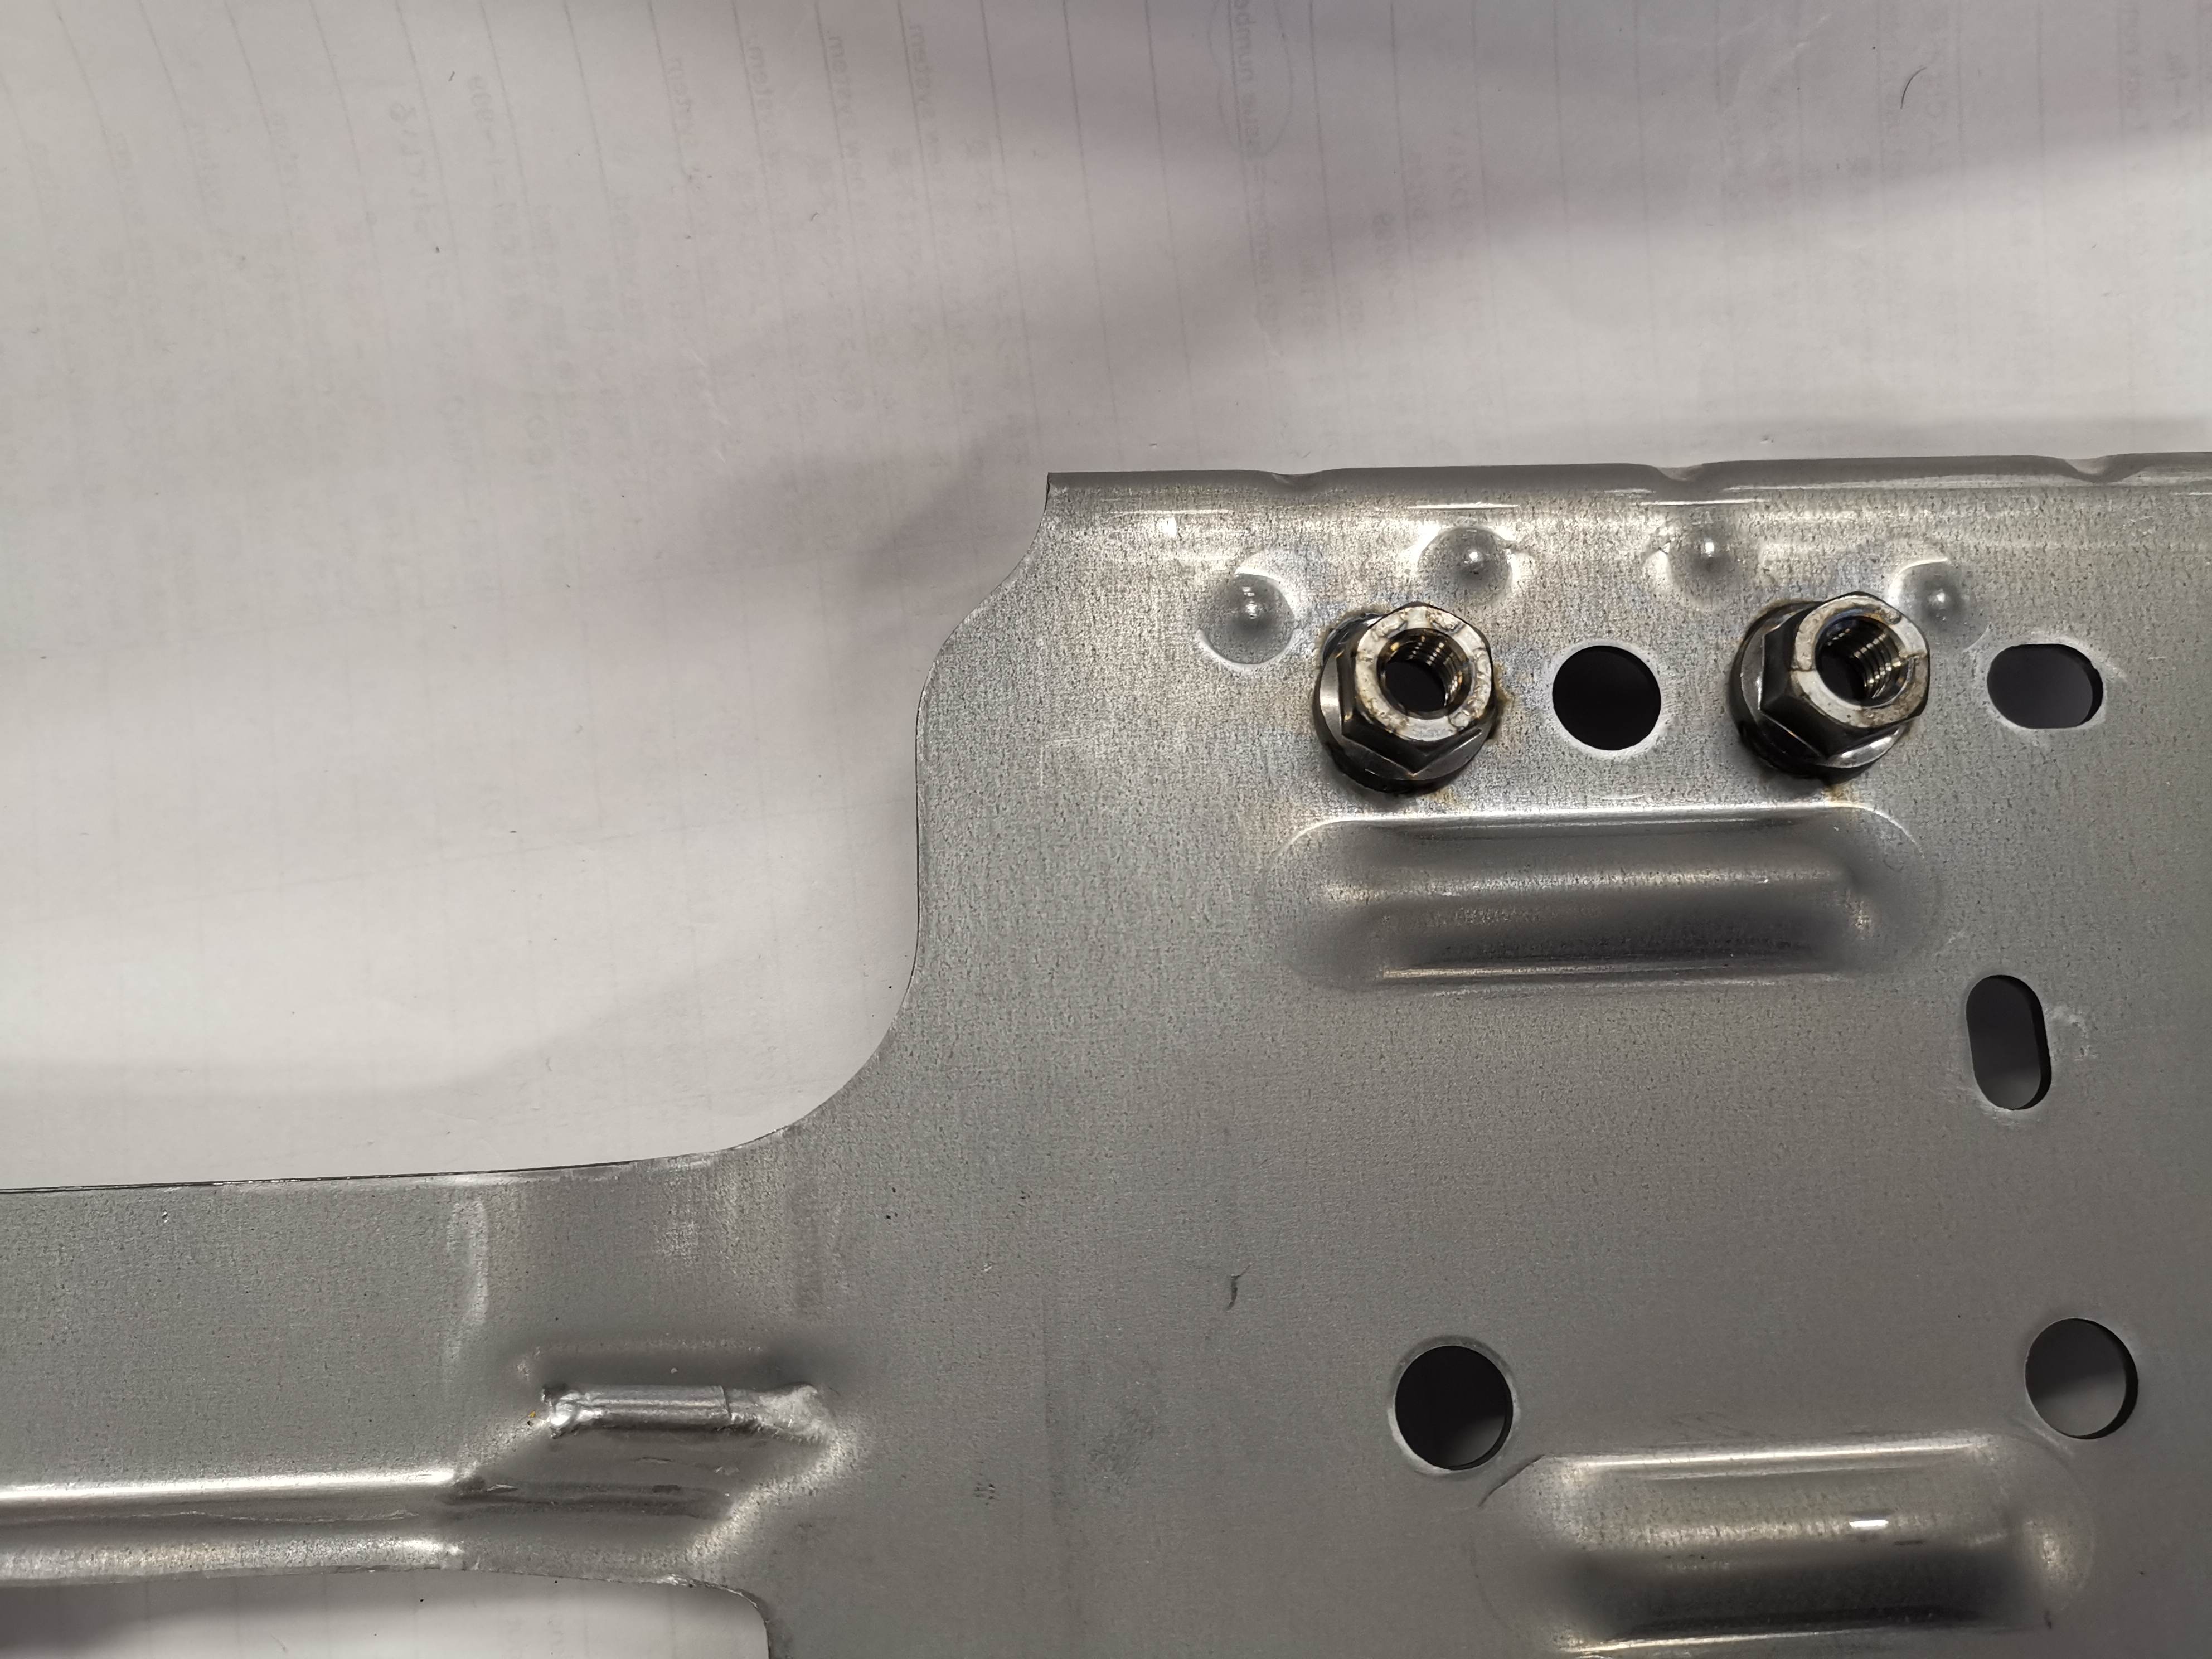dog: (1723, 586, 1939, 784), (1308, 596, 1505, 803)
